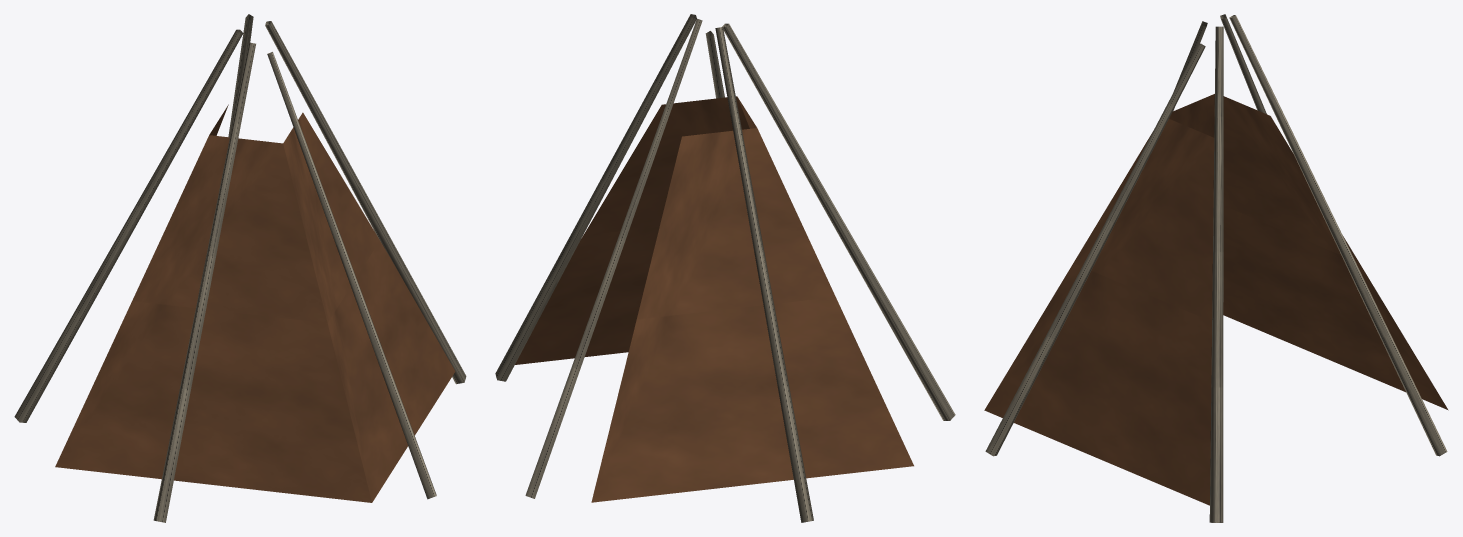
File: Hut_Branch_1_LOD2.gltf
3 views of the same model, side by side, from view 1: azimuth 30°, elevation 25°; view 2: azimuth 150°, elevation 25°; view 3: azimuth 270°, elevation 25° (orthographic).
Parts seen in each view (by area): view 1: Hut_Branch_1_LOD2; view 2: Hut_Branch_1_LOD2; view 3: Hut_Branch_1_LOD2.
Part boxes in pixels (left/top/right/bottom): Hut_Branch_1_LOD2: left=14, top=14, right=466, bottom=522; Hut_Branch_1_LOD2: left=495, top=14, right=955, bottom=522; Hut_Branch_1_LOD2: left=984, top=14, right=1448, bottom=522.
Size of the model in its own units: 3.51 by 3.35 by 3.43.
2 materials, 2 textured.
